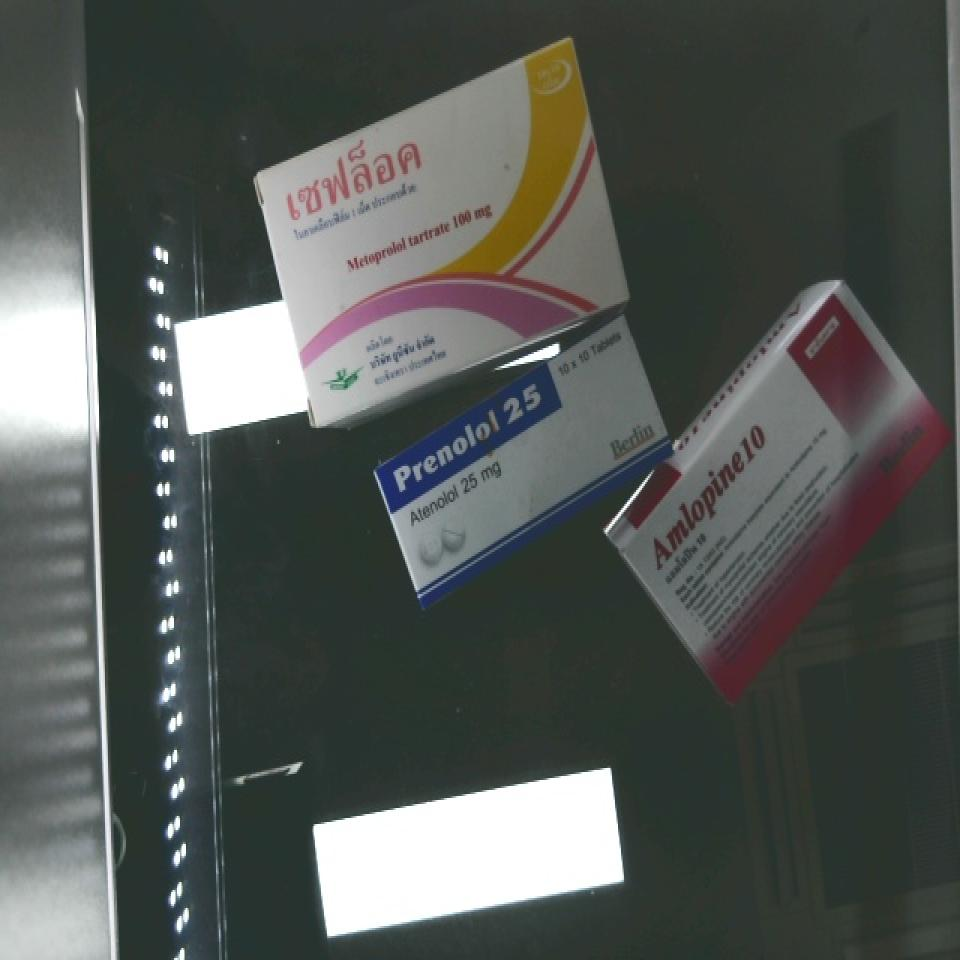medicine_box: (211, 36, 676, 430), (585, 280, 960, 715), (342, 312, 697, 613)
medicine_label_obb: (617, 396, 792, 586), (367, 360, 573, 511), (250, 102, 444, 248)
